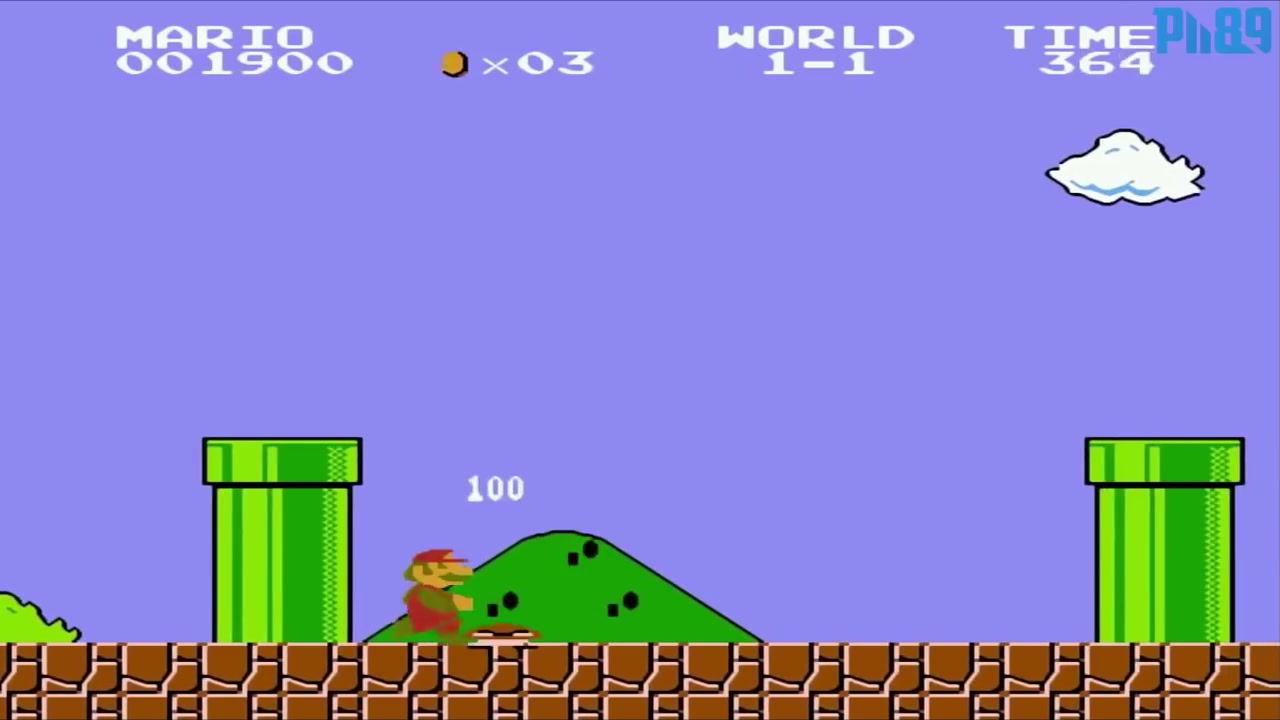mario: (389, 542, 478, 639)
